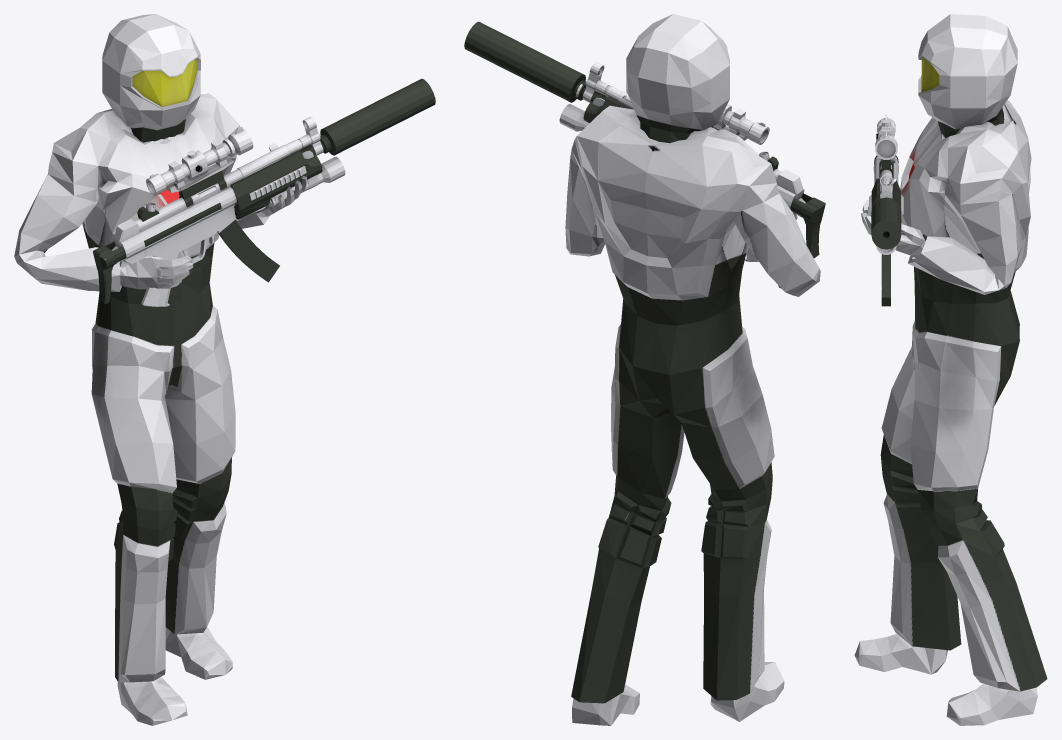
Rendered from walk1.obj.
3 views of the same model, side by side, from view 1: azimuth 30°, elevation 25°; view 2: azimuth 150°, elevation 25°; view 3: azimuth 270°, elevation 25° (orthographic). The views are drawn at different scales.
Visible parts, largest first — view 1: Male001Skin_001, Object001; view 2: Male001Skin_001, Object001; view 3: Male001Skin_001, Object001.
Boxes of the visible parts, x1=… form: Male001Skin_001: x1=14, y1=14, x2=307, y2=725; Object001: x1=93, y1=78, x2=435, y2=306; Male001Skin_001: x1=565, y1=14, x2=820, y2=725; Object001: x1=464, y1=21, x2=825, y2=261; Male001Skin_001: x1=854, y1=14, x2=1047, y2=725; Object001: x1=869, y1=115, x2=903, y2=306.
Bounding box in the file's own units: 1111 × 1894 × 496.
Materials: 1 (1 with a texture image).
